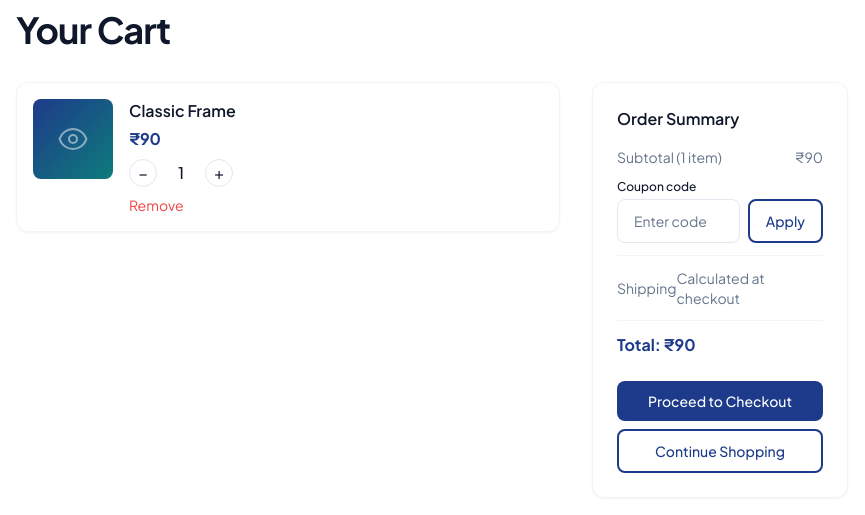
it: CartPage › quantity stepper › decrements the quantity and the order total
The image size is (865, 515).
Click the button named "increase quantity": (219, 173) [205,159,233,187]
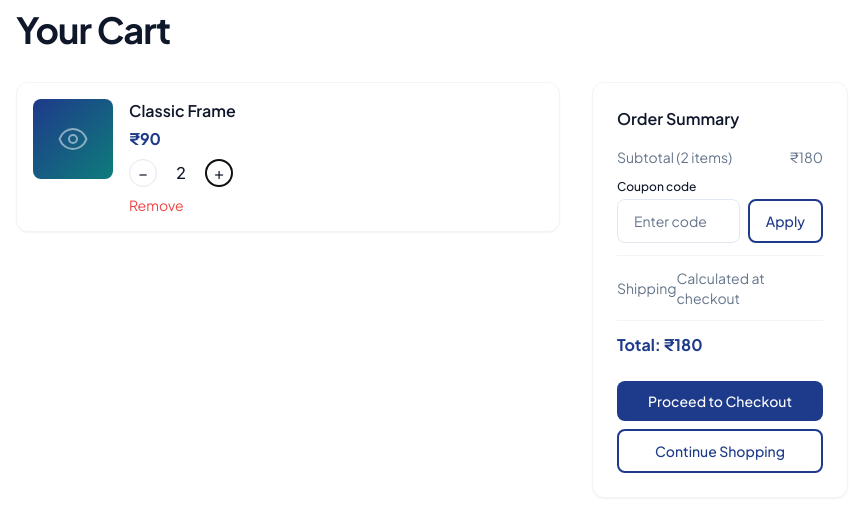
Click the button named "increase quantity": (219, 173) [205,159,233,187]
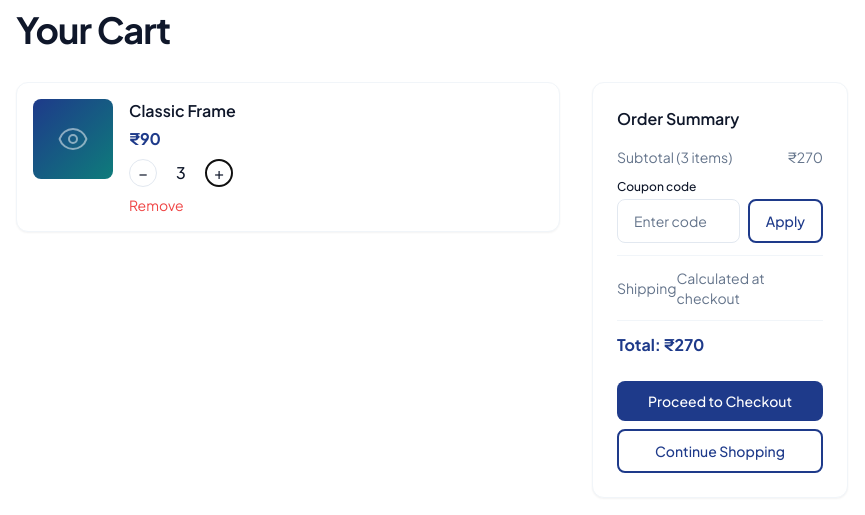
Click the button named "decrease quantity": (143, 173) [129,159,157,187]
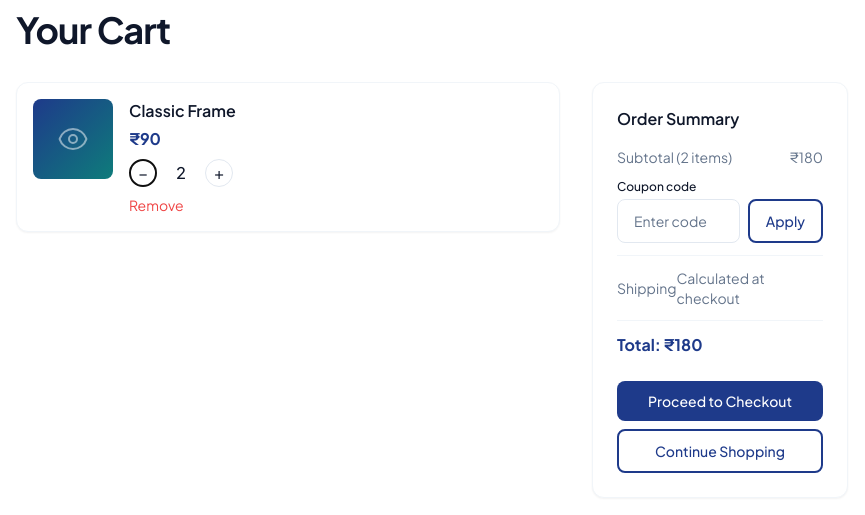
Expected: the text "2" is shown, [176,162,186,183]
